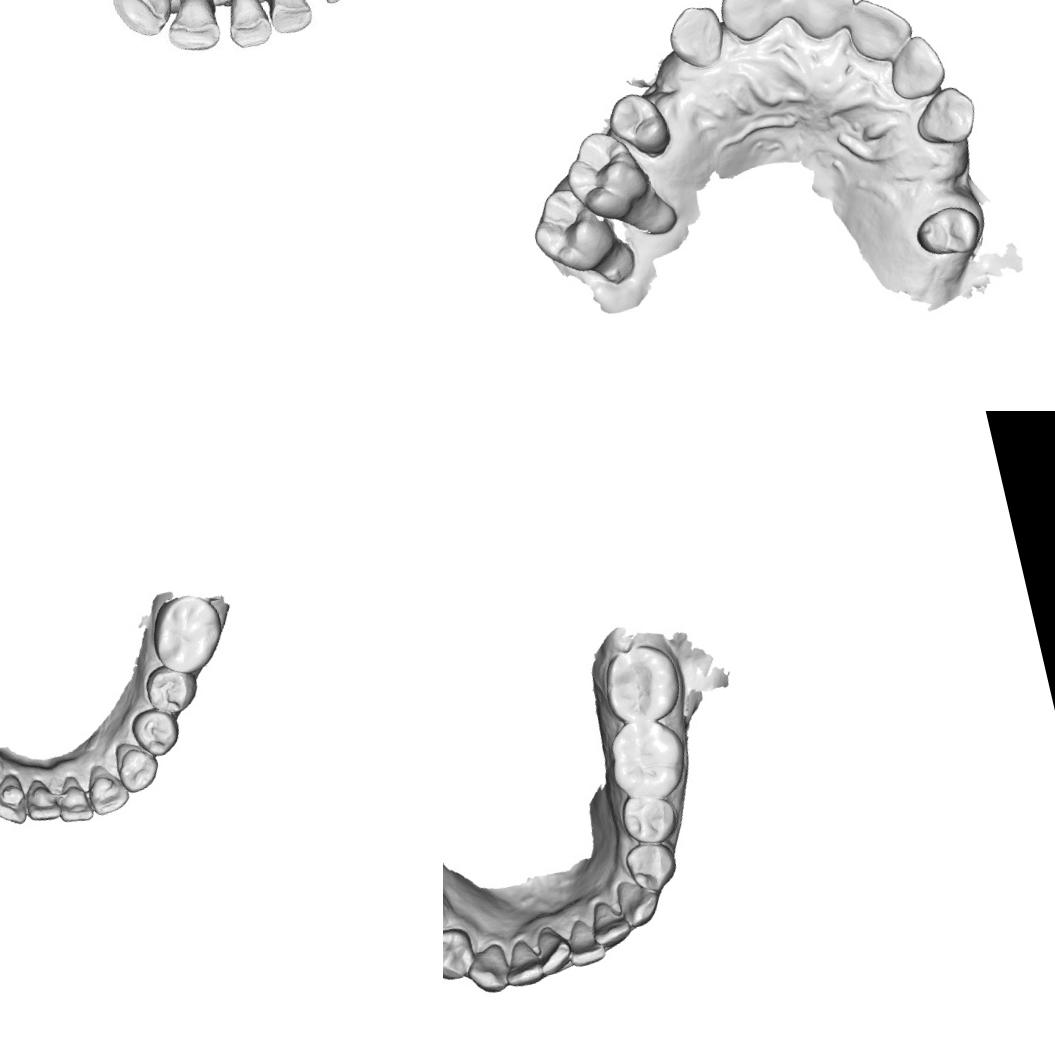canine: (909, 81, 981, 152), (663, 0, 730, 74), (110, 734, 164, 796), (463, 940, 514, 1000), (614, 873, 664, 931)
incisor: (842, 0, 919, 68), (882, 30, 950, 104), (782, 0, 862, 46), (715, 0, 791, 47), (159, 0, 224, 53), (81, 756, 130, 819), (106, 0, 188, 37), (586, 894, 636, 952), (217, 0, 278, 47), (496, 935, 546, 990), (20, 769, 65, 830), (52, 766, 92, 834), (530, 921, 576, 977), (562, 913, 609, 967), (254, 0, 319, 36), (0, 770, 31, 831)
molar: (556, 122, 656, 232), (524, 179, 624, 284), (595, 637, 687, 731), (602, 712, 693, 806), (148, 594, 228, 674)
premolar: (603, 86, 675, 164), (911, 200, 986, 264), (140, 658, 204, 720), (617, 786, 680, 848), (621, 836, 683, 898), (126, 704, 185, 762), (443, 923, 479, 985)
